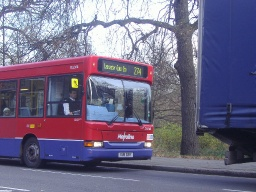bus: (1, 54, 157, 171)
